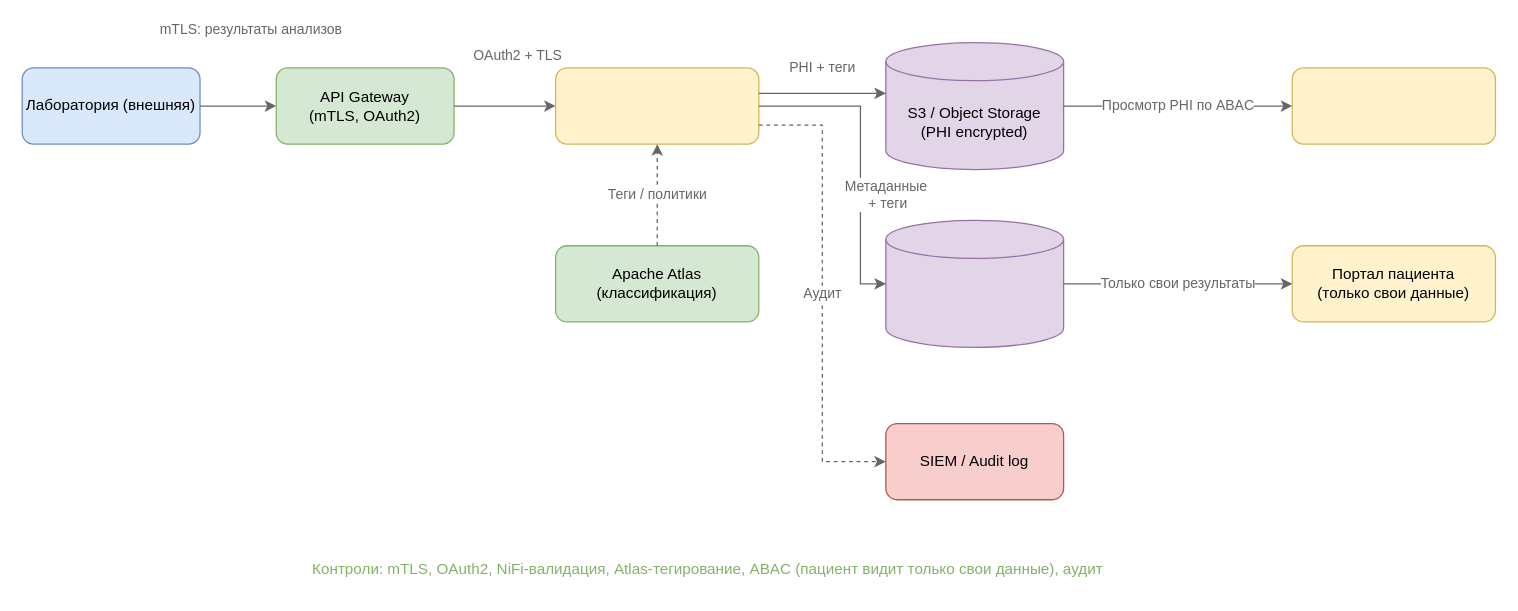
Some shapes in this 1518 by 611 pixel diagram are drawn without their labels. Here are the shapes that lost their labels. From the top down, the centre of each, then its label:
the point at 656,105: Apache NiFi (validation, tagging)
the point at 1393,105: Портал врача (ABAC: только свой пациент)
the point at 974,283: PostgreSQL (encrypted)
